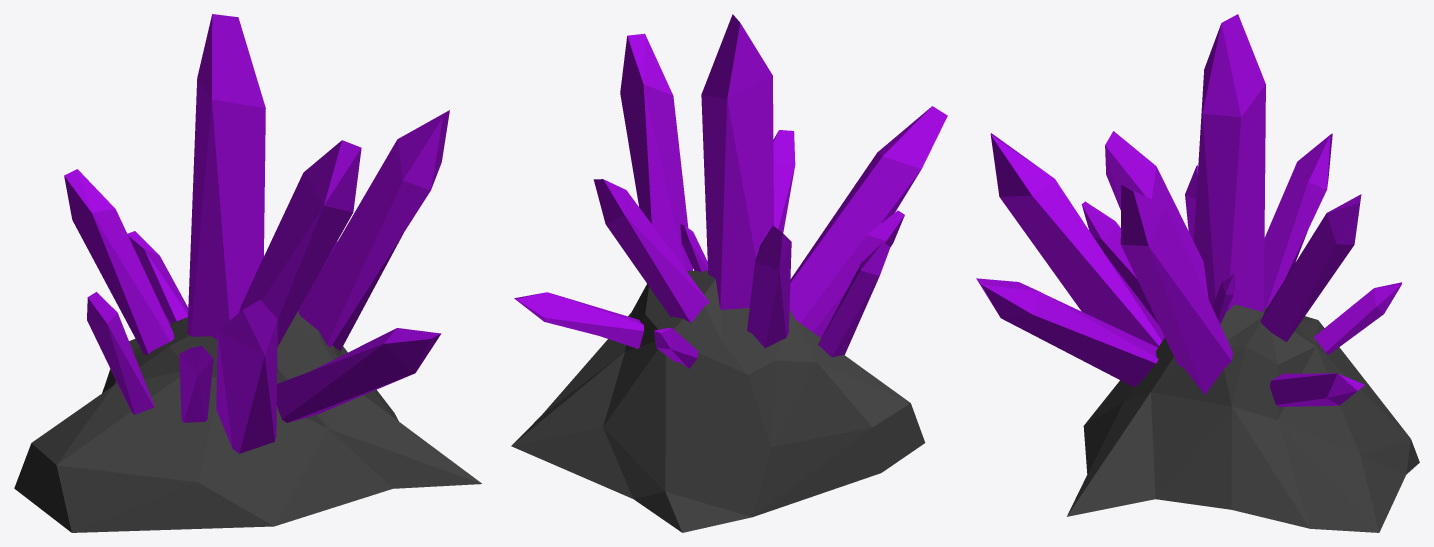
File: Crystal Formation.fbx
The picture shows the model from 3 angles, left to right: view 1: azimuth 30°, elevation 25°; view 2: azimuth 150°, elevation 25°; view 3: azimuth 270°, elevation 25°; orthographic projection. The views are drawn at different scales.
Visible parts, largest first — view 1: Cylinder; view 2: Cylinder; view 3: Cylinder.
Boxes of the visible parts, x1,y1,x2,y2 form: Cylinder: (14,14,481,532); Cylinder: (511,14,947,532); Cylinder: (976,14,1419,532).
Bounding box in the file's own units: 479 × 613 × 532.
